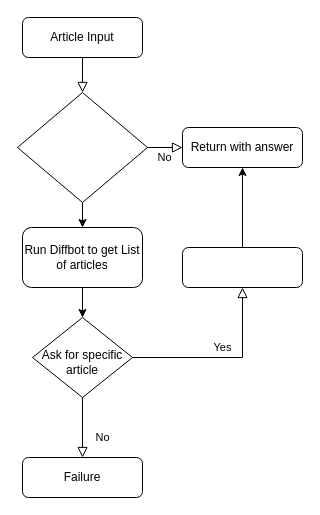
Image size: 320x515. Some labels were removed from this diagram. Each missing label, with the centre of its shape:
call function to get article via Diffbot: (242,267)
GPT instruction to verify article with internet: (82,147)
